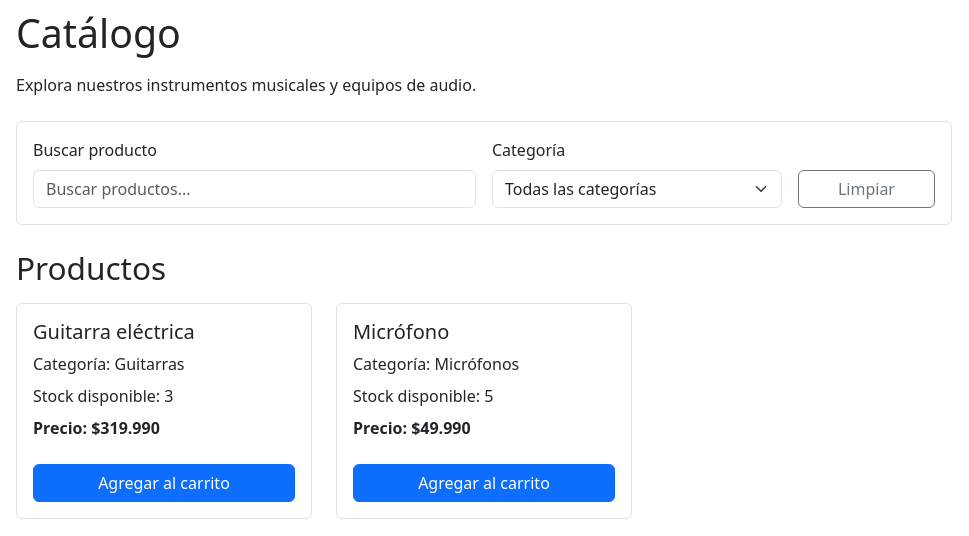
it: Catalogo › filtra los productos al escribir en el buscador
This screenshot has width=969, height=536.
Escribe el nombre de un producto en el buscador
Type "Guitarra" into the field with placeholder "Buscar productos..." at [254, 189], box [33, 170, 476, 208]
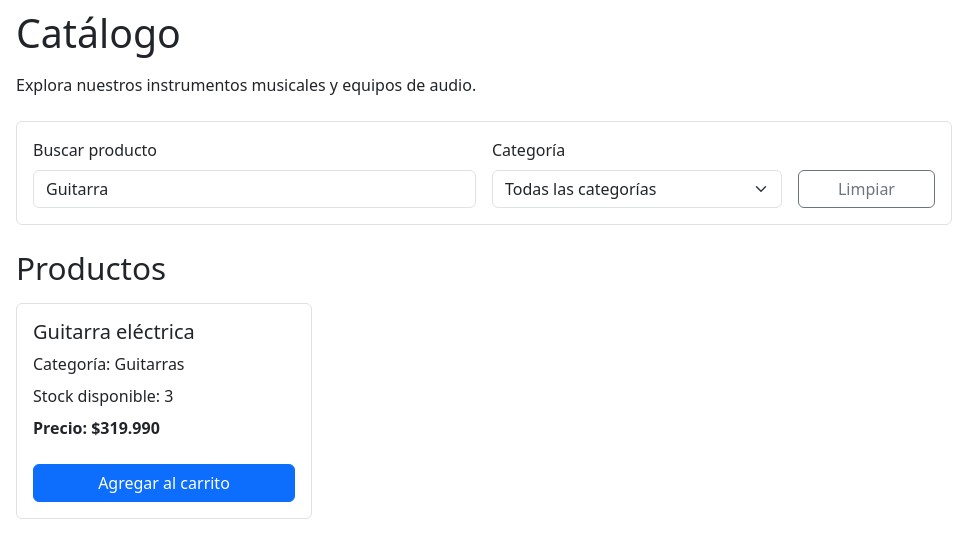
Check: the heading "Guitarra eléctrica" is shown, box [33, 318, 195, 345]
Check: the heading "Micrófono" is gone
